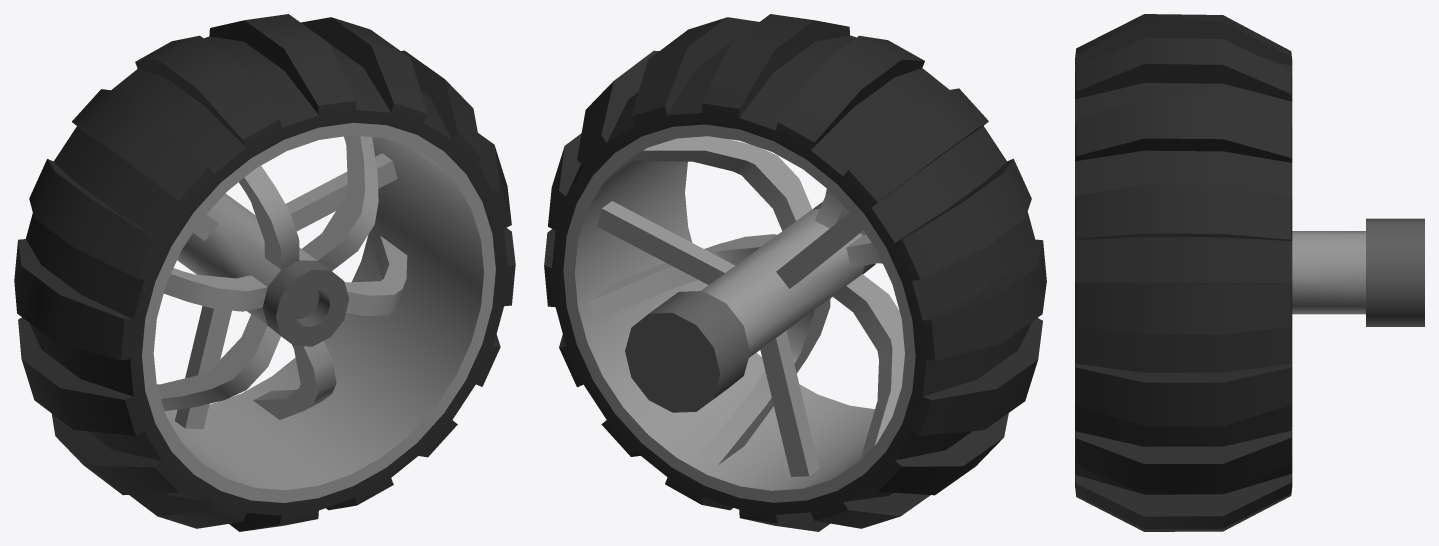
The model's file is llanta_tra_der.obj.
3 views of the same model, side by side, from view 1: azimuth 30°, elevation 25°; view 2: azimuth 150°, elevation 25°; view 3: azimuth 270°, elevation 25° (orthographic).
Parts seen in each view (by area): view 1: llanta_tra_der; view 2: llanta_tra_der; view 3: llanta_tra_der.
Boxes of the visible parts, x1,y1,x2,y2 form: llanta_tra_der: [14, 14, 515, 531]; llanta_tra_der: [544, 14, 1046, 531]; llanta_tra_der: [1075, 14, 1424, 531].
Size of the model in its own units: 2.48 by 2.48 by 1.67.
